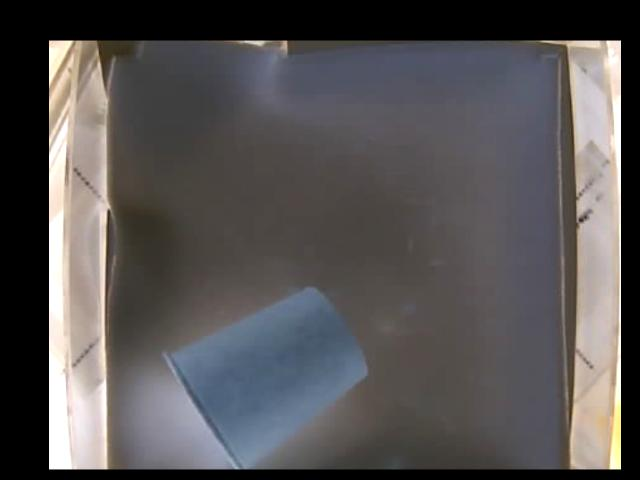Cup: (165, 287, 370, 468)
